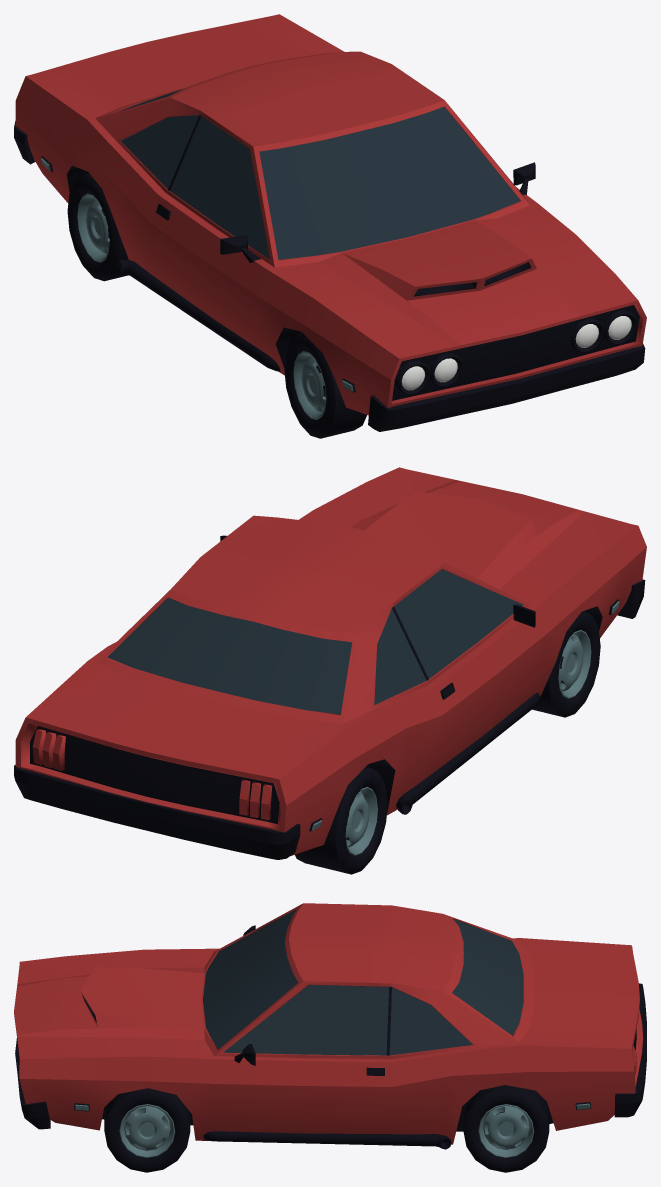
The model's file is car 3.fbx.
The picture shows the model from 3 angles, top to bottom: view 1: azimuth 30°, elevation 25°; view 2: azimuth 150°, elevation 25°; view 3: azimuth 270°, elevation 25°; orthographic projection. The views are drawn at different scales.
Visible parts, largest first — view 1: Car 3; view 2: Car 3; view 3: Car 3.
Boxes of the visible parts, box(x1,y1,x2,y2) form: Car 3: box(14, 14, 646, 438); Car 3: box(14, 467, 646, 874); Car 3: box(14, 903, 646, 1172).
Size of the model in its own units: 122 by 79.95 by 255.
1 material, 1 textured.
